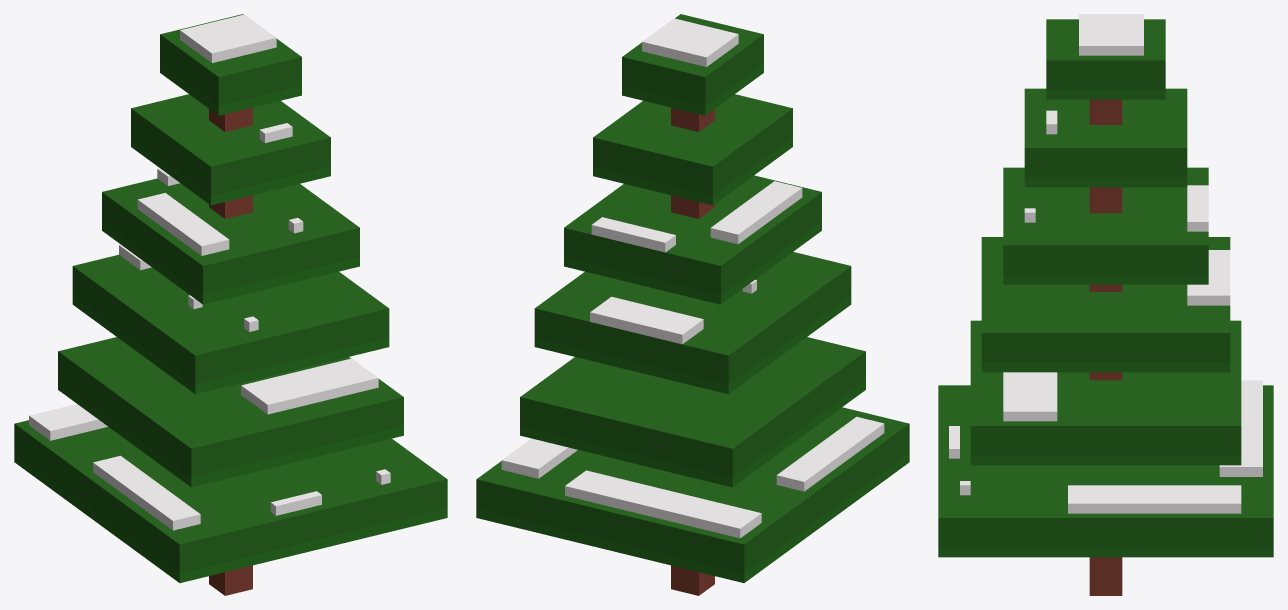
File: pino.obj
3 views of the same model, side by side, from view 1: azimuth 30°, elevation 25°; view 2: azimuth 150°, elevation 25°; view 3: azimuth 270°, elevation 25° (orthographic).
Visible parts, largest first — view 1: Mesh; view 2: Mesh; view 3: Mesh.
Part boxes in pixels (x1,y1,x2,y2): Mesh: (14,14,447,595); Mesh: (476,14,909,595); Mesh: (938,14,1273,595).
Size of the model in its own units: 2.9 by 5.7 by 3.1.
